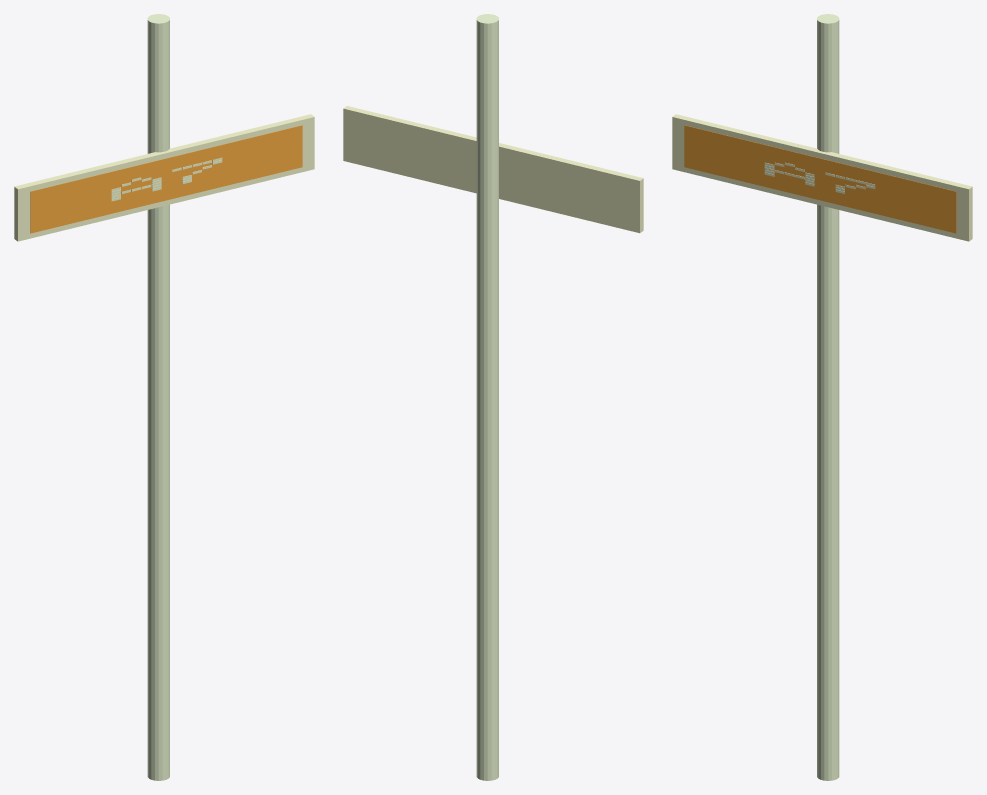
File: sign_route_a7_shield.glb
3 renders of one model, left to right at view 1: azimuth 30°, elevation 25°; view 2: azimuth 150°, elevation 25°; view 3: azimuth 330°, elevation 25°, orthographic.
Parts seen in each view (by area): view 1: pole, layer_1_00, plate_base_00; view 2: pole, plate_base_00; view 3: pole, layer_1_00, plate_base_00.
Boxes of the visible parts, x1=… form: pole: x1=147, y1=14, x2=169, y2=780; layer_1_00: x1=30, y1=125, x2=302, y2=233; plate_base_00: x1=14, y1=114, x2=314, y2=241; pole: x1=476, y1=14, x2=498, y2=780; plate_base_00: x1=343, y1=106, x2=643, y2=233; pole: x1=817, y1=14, x2=839, y2=780; layer_1_00: x1=684, y1=125, x2=956, y2=233; plate_base_00: x1=672, y1=114, x2=972, y2=241.
Size of the model in its own units: 0.9024 by 2.2 by 0.0725.
